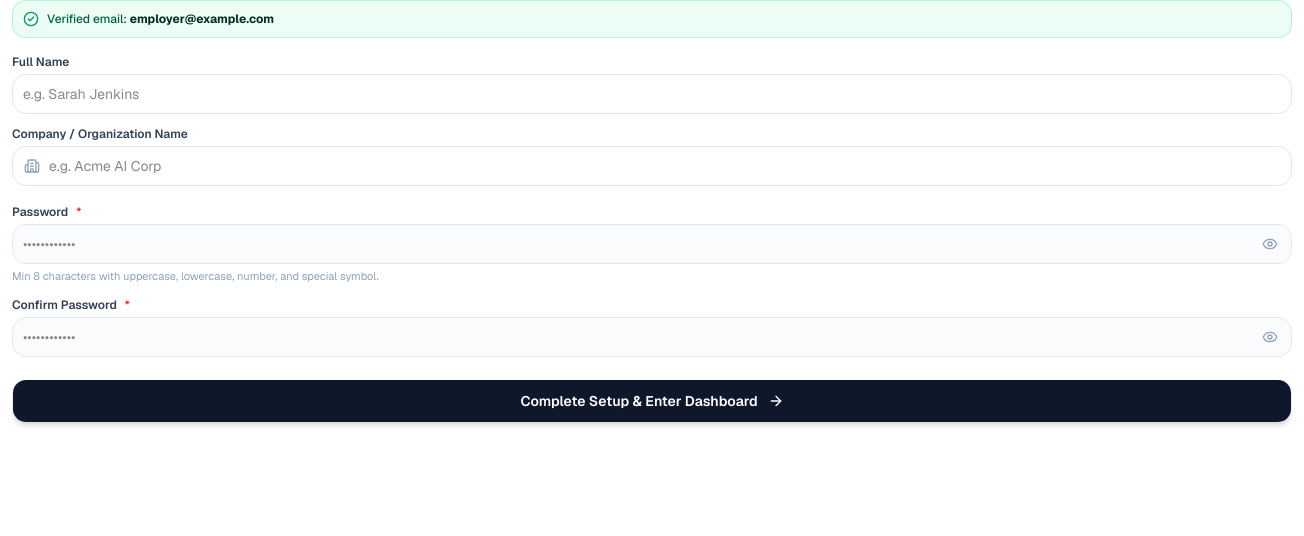
OnboardingProfileForm › renders specific company duplicate error without showing existing account login prompt
Step 1. Type "Jane Doe" into the field labelled "Full Name" → (652, 94), box left=12, top=74, right=1292, bottom=114
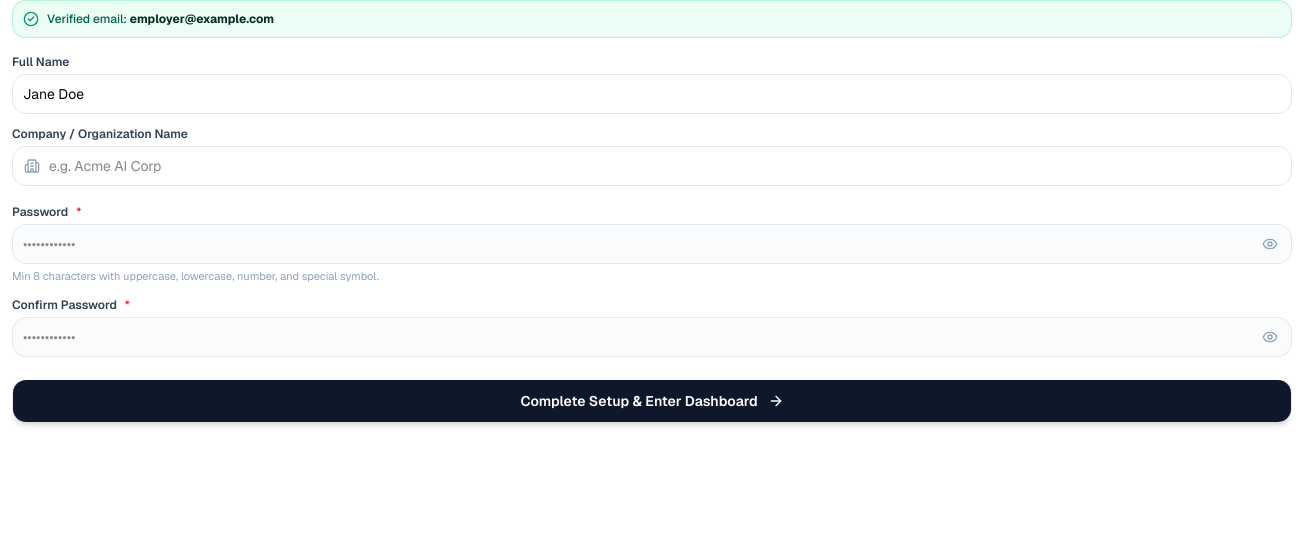
Step 2. Type "Acme Corp" into the field labelled "Company / Organization Name" → (652, 166), box left=12, top=146, right=1292, bottom=186
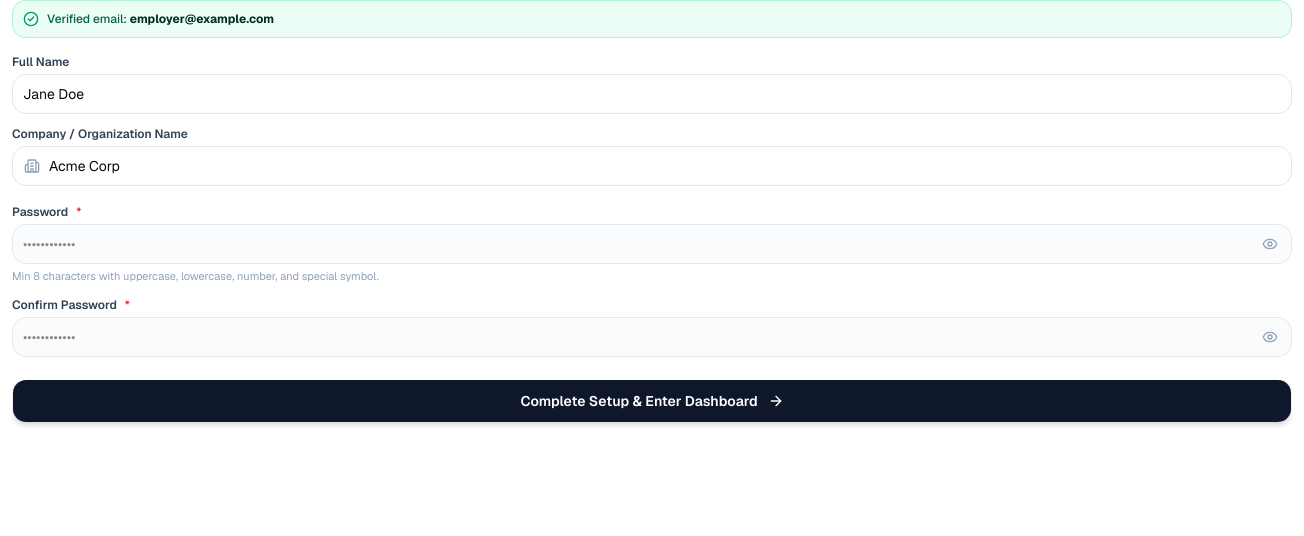
Step 3. Type "StrongP@ss123!" into the password field labelled "Password *" → (652, 244), box left=12, top=224, right=1292, bottom=264
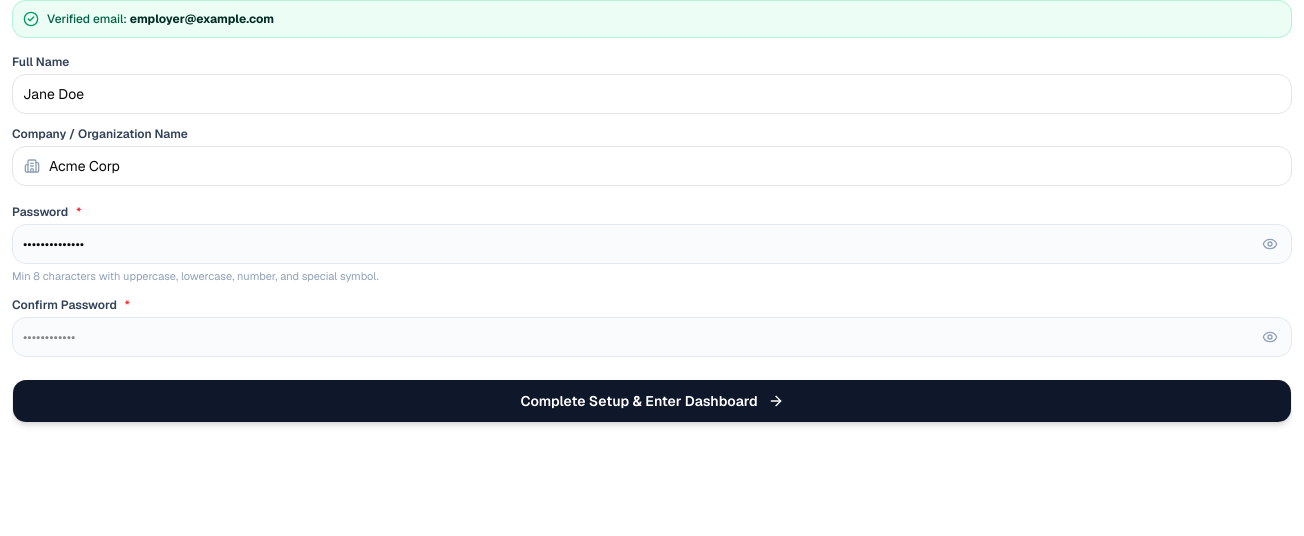
Step 4. Type "StrongP@ss123!" into the password field labelled "Confirm Password *" → (652, 336), box left=12, top=316, right=1292, bottom=356
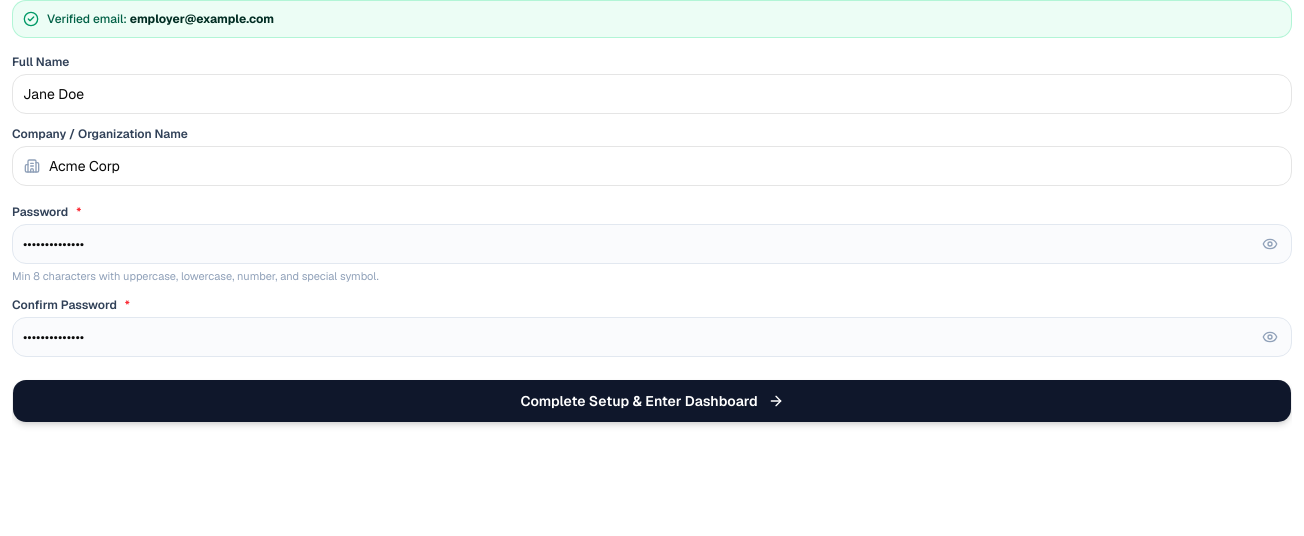
Step 5. Click the button "Complete Setup & Enter Dashboard" → (652, 400), box left=12, top=378, right=1292, bottom=422
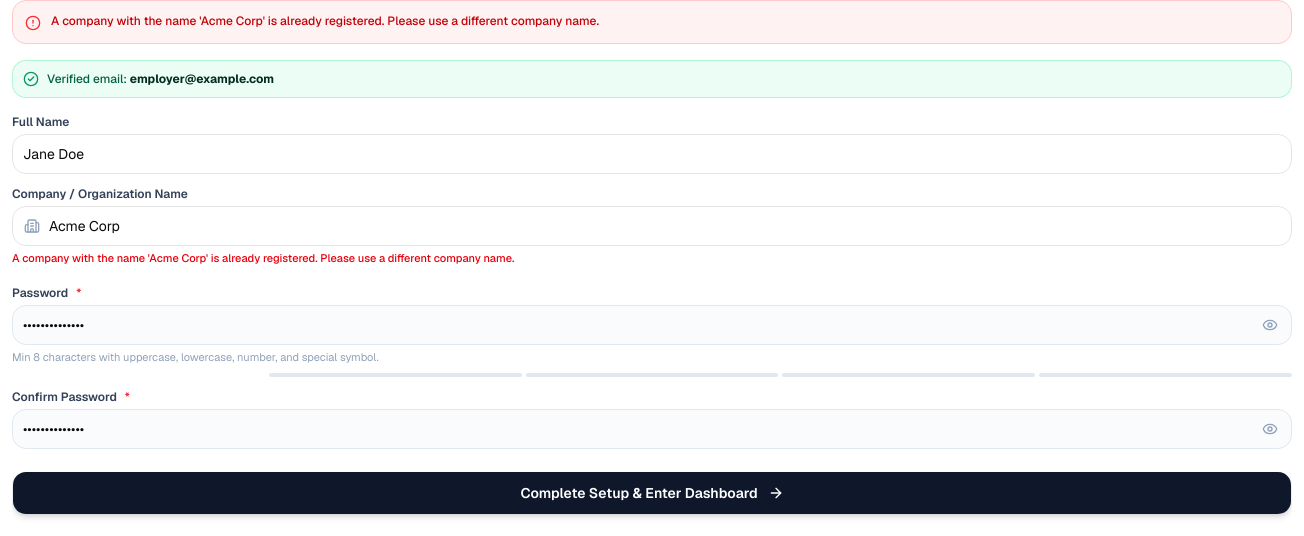
Expected: the message shows "A company with the name 'Acme Corp' is already registered. Please use a different company name.", left=51, top=13, right=599, bottom=29
